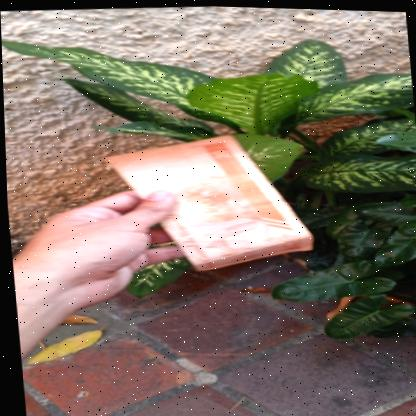twenty-back-vef: (101, 125, 313, 278)
